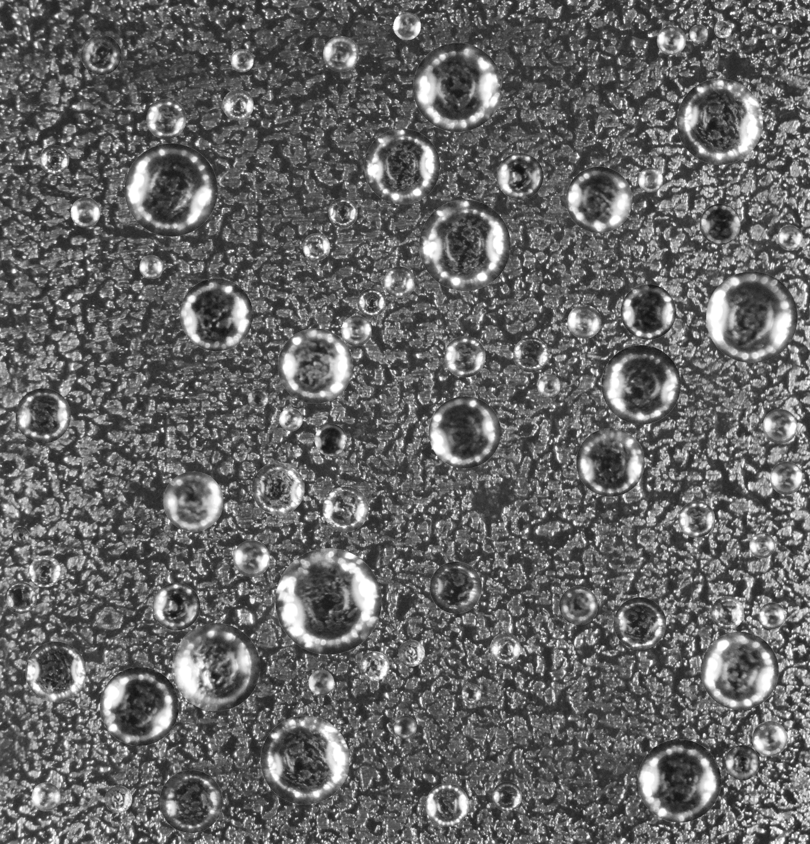Bubble: (275, 548, 381, 654), (124, 143, 217, 236), (419, 199, 510, 290), (706, 271, 797, 362), (413, 42, 502, 131), (260, 715, 349, 804), (172, 623, 260, 711), (677, 78, 763, 164), (637, 739, 721, 822), (601, 345, 680, 424), (700, 631, 778, 709), (100, 667, 178, 745), (364, 128, 440, 204), (277, 328, 352, 403), (180, 278, 252, 351), (428, 396, 500, 468), (576, 428, 644, 496), (566, 166, 632, 232), (159, 770, 222, 833), (25, 641, 85, 702), (163, 471, 223, 531), (620, 284, 676, 339), (15, 388, 70, 443), (613, 597, 666, 649), (252, 462, 304, 514), (429, 561, 481, 613), (152, 582, 200, 630), (496, 153, 543, 199), (322, 486, 368, 532), (425, 783, 469, 826), (444, 336, 485, 377), (699, 203, 740, 244), (81, 34, 121, 75), (146, 99, 186, 138), (559, 586, 597, 625), (678, 501, 715, 537), (233, 540, 269, 576), (724, 745, 759, 780), (513, 337, 548, 372), (323, 36, 358, 71), (752, 721, 787, 756), (762, 409, 797, 443), (567, 304, 601, 338), (711, 596, 744, 629), (770, 461, 803, 494), (314, 424, 346, 456), (29, 555, 60, 587), (383, 266, 415, 297), (4, 582, 36, 613), (222, 89, 253, 120), (341, 315, 371, 346), (70, 197, 100, 227), (359, 651, 389, 681), (490, 633, 520, 663), (492, 781, 521, 811), (328, 197, 357, 227), (39, 145, 69, 174), (657, 25, 686, 54), (31, 782, 60, 811), (357, 288, 385, 316), (104, 785, 132, 812), (302, 233, 330, 260), (393, 12, 420, 39), (758, 602, 785, 629), (398, 640, 424, 666), (749, 532, 775, 558), (308, 670, 334, 695), (638, 167, 663, 192), (777, 225, 802, 250), (139, 255, 163, 278), (279, 407, 302, 431), (393, 715, 416, 738), (230, 49, 253, 72), (537, 374, 560, 397), (247, 388, 268, 408), (461, 683, 481, 703), (689, 24, 708, 43), (11, 526, 29, 544), (714, 20, 731, 38), (772, 24, 786, 38)
